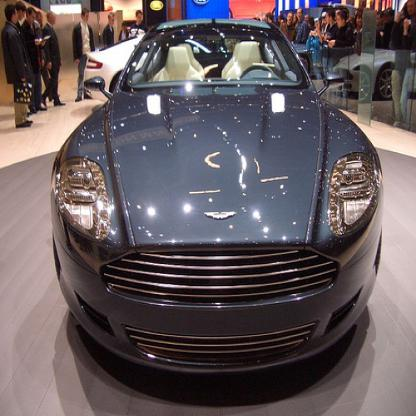car: (51, 18, 385, 378), (82, 35, 144, 106)
